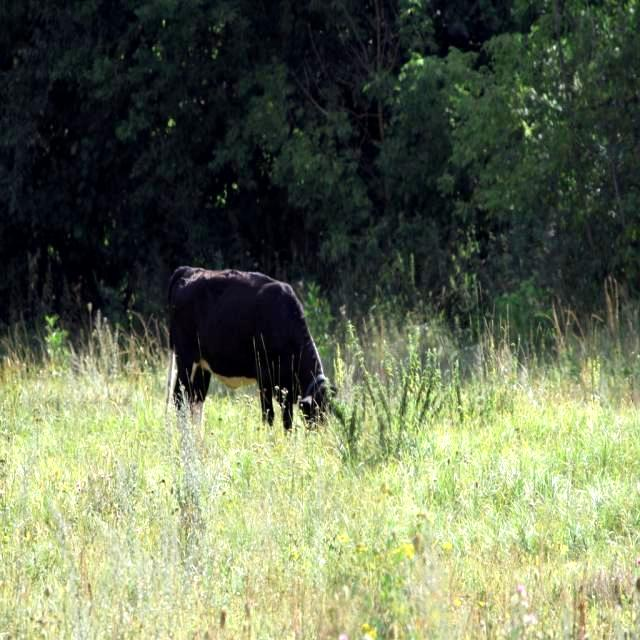COW: (169, 268, 329, 429)
